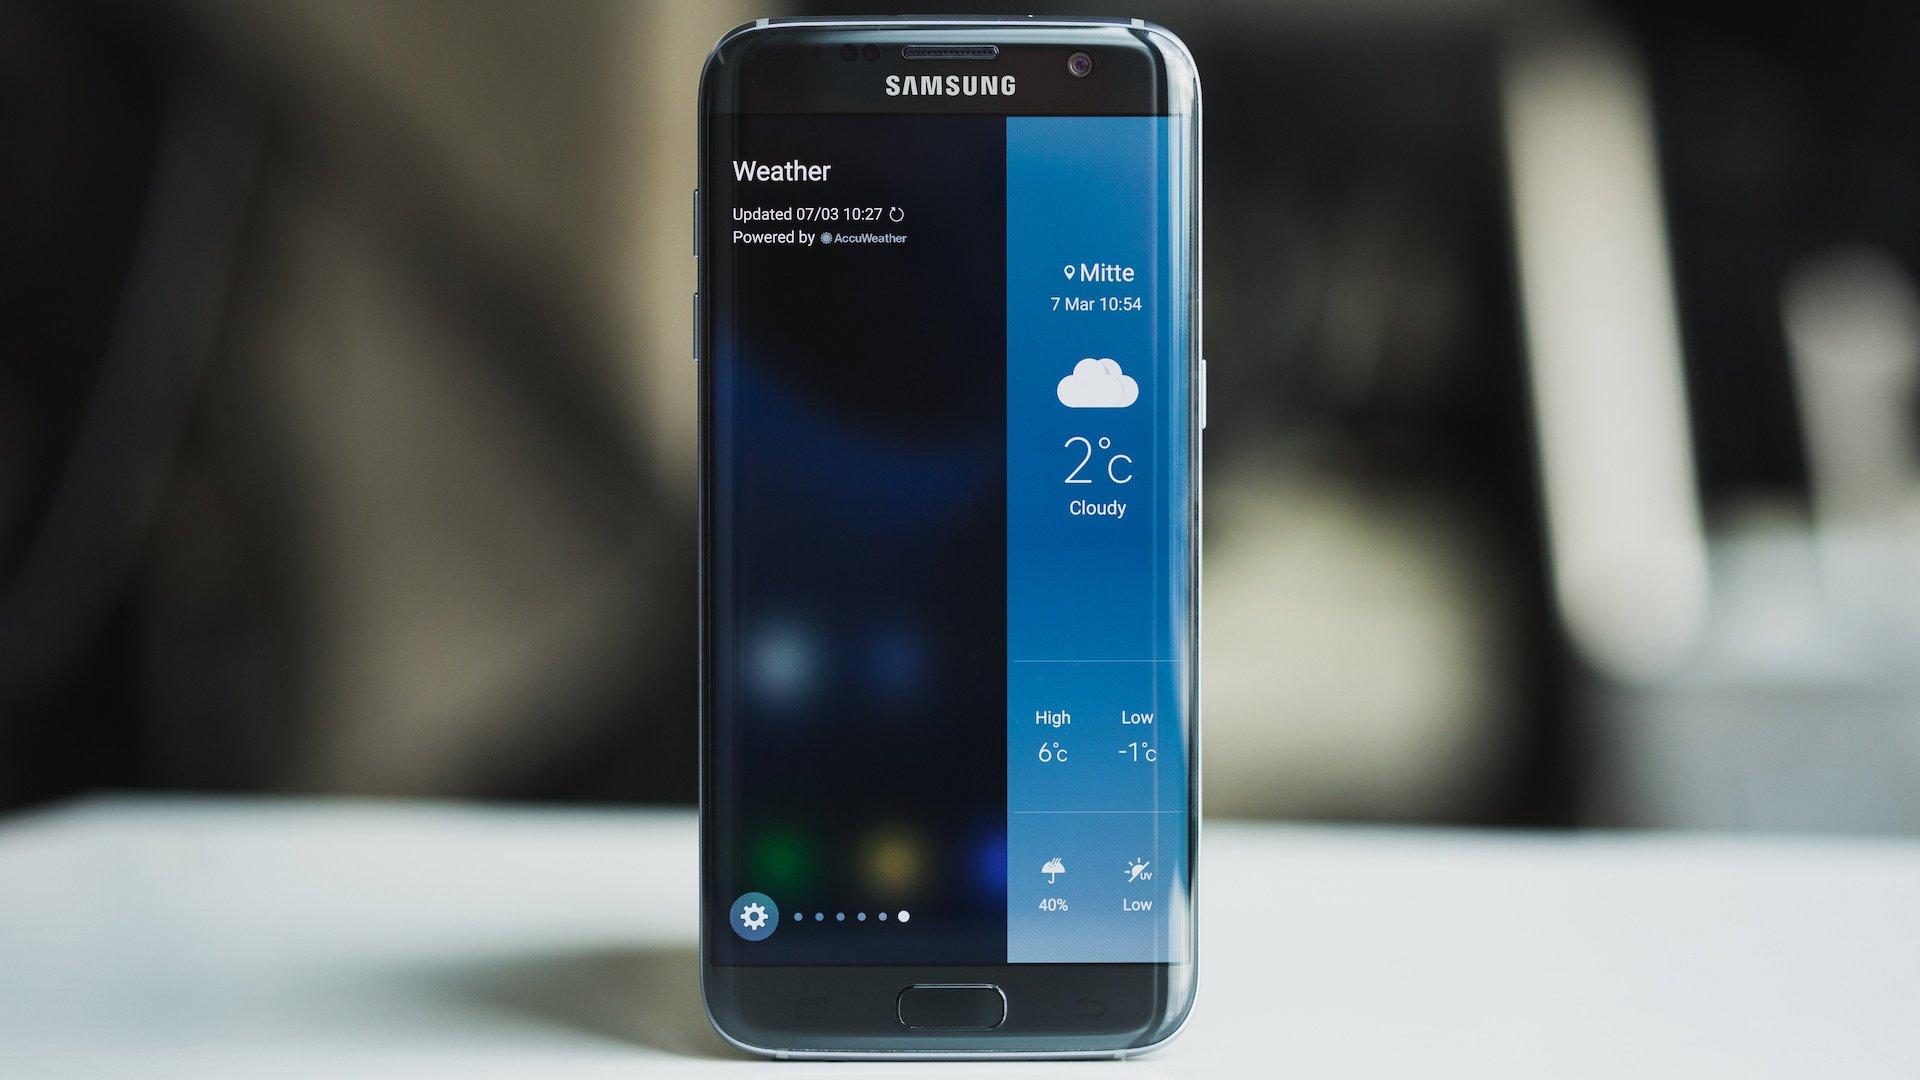smartphone: (690, 9, 1213, 1065)
